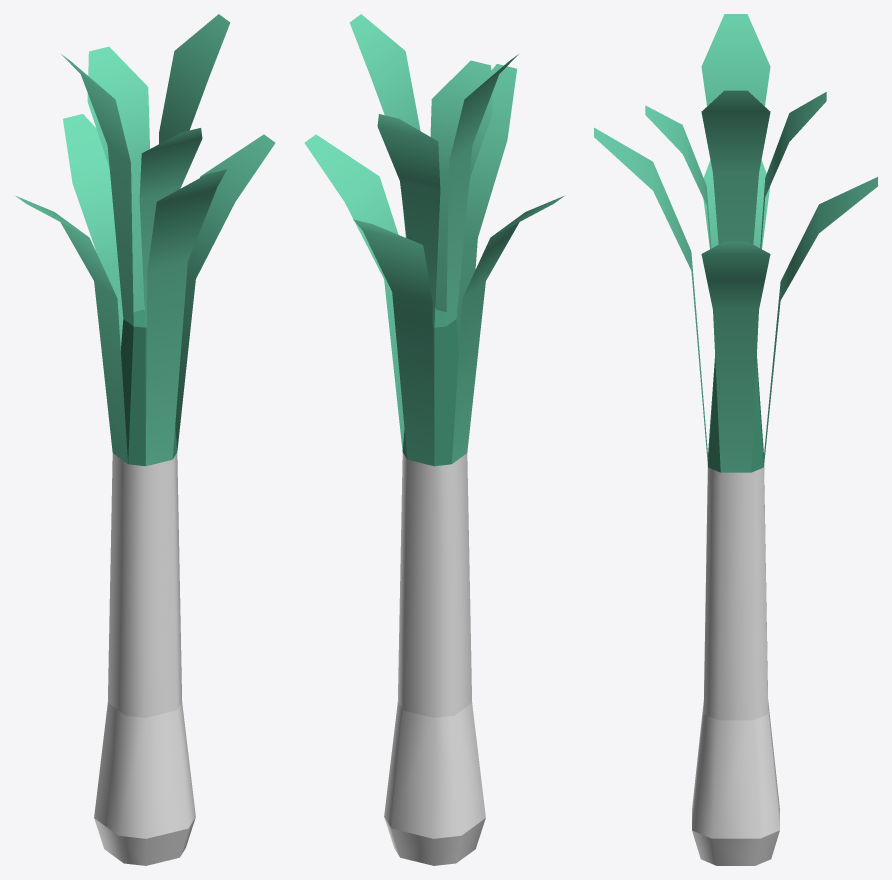
Rendered from leek.obj.
3 renders of one model, left to right at view 1: azimuth 30°, elevation 25°; view 2: azimuth 150°, elevation 25°; view 3: azimuth 270°, elevation 25°, orthographic.
Visible parts, largest first — view 1: leek; view 2: leek; view 3: leek.
Boxes of the visible parts, bbox=[...] form: leek: bbox=[16, 14, 275, 865]; leek: bbox=[304, 14, 563, 865]; leek: bbox=[594, 14, 877, 865].
Size of the model in its own units: 0.2729 by 0.8474 by 0.2729.
